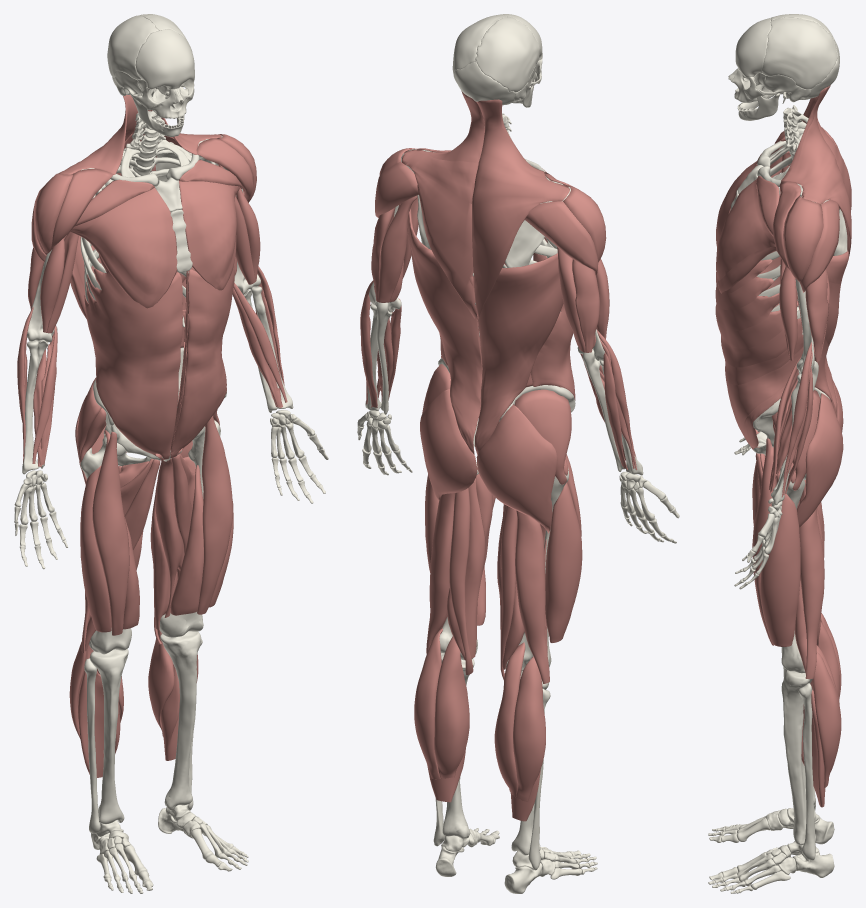
File: muscle-figure.glb
The picture shows the model from 3 angles, left to right: view 1: azimuth 30°, elevation 25°; view 2: azimuth 150°, elevation 25°; view 3: azimuth 270°, elevation 25°; orthographic projection. The views are drawn at different scales.
Visible parts, largest first — view 1: abs_l, quads_l, skull_bone, chest_l, quads_r, abs_r, chest_r, adductors_r, Tibia_bone_r, forearms_l, Tibia_bone_l, forearms_r (+30 smaller); view 2: lats_l, glutes_l, traps_r, traps_l, hamstrings_r, hamstrings_l, skull_bone, calves_r, lats_r, calves_l, quads_l, glutes_r (+22 smaller); view 3: abs_r, skull_bone, quads_r, glutes_r, chest_r, traps_l, hamstrings_r, calves_r, forearms_r, foot_bone_r, Tibia_bone_r, side-delts_r (+21 smaller).
Boxes of the visible parts, <box> form: abs_l: <box>84,254,182,460</box>; quads_l: <box>80,430,139,635</box>; skull_bone: <box>107,14,194,136</box>; chest_l: <box>70,187,177,308</box>; quads_r: <box>170,415,233,615</box>; abs_r: <box>170,265,234,458</box>; chest_r: <box>179,181,241,290</box>; adductors_r: <box>155,453,195,617</box>; Tibia_bone_r: <box>160,631,201,810</box>; forearms_l: <box>17,307,57,466</box>; Tibia_bone_l: <box>89,649,128,824</box>; forearms_r: <box>232,266,287,407</box>; lats_l: <box>474,253,563,454</box>; glutes_l: <box>476,389,571,533</box>; traps_r: <box>472,99,569,325</box>; traps_l: <box>401,91,484,324</box>; hamstrings_r: <box>426,478,485,674</box>; hamstrings_l: <box>497,505,549,683</box>; skull_bone: <box>452,14,542,107</box>; calves_r: <box>414,628,469,802</box>; lats_r: <box>407,208,482,454</box>; calves_l: <box>494,642,545,821</box>; quads_l: <box>523,454,582,642</box>; glutes_r: <box>420,364,477,500</box>; abs_r: <box>715,259,803,449</box>; skull_bone: <box>728,14,839,120</box>; quads_r: <box>752,438,800,646</box>; glutes_r: <box>771,390,843,527</box>; chest_r: <box>716,179,776,293</box>; traps_l: <box>781,85,851,256</box>; hamstrings_r: <box>795,480,824,679</box>; calves_r: <box>801,645,841,807</box>; forearms_r: <box>769,342,813,497</box>; foot_bone_r: <box>708,841,834,893</box>; Tibia_bone_r: <box>781,670,815,845</box>; side-delts_r: <box>783,195,823,283</box>.
Size of the model in its own units: 0.6673 by 1.7 by 0.2621.
